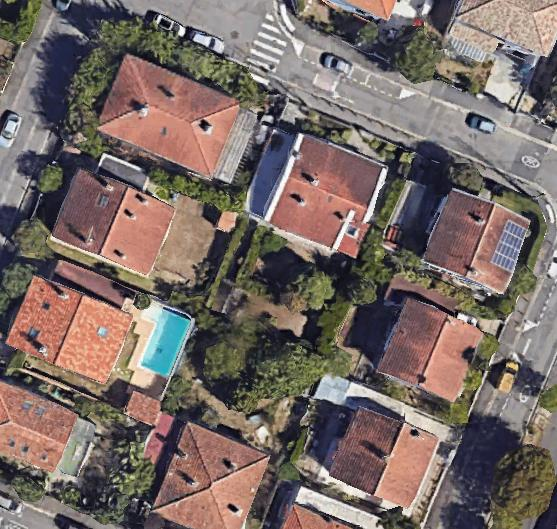maison: (247, 125, 388, 257), (95, 54, 243, 178), (49, 166, 178, 277), (5, 275, 132, 385), (149, 420, 269, 529), (418, 186, 531, 298), (326, 403, 440, 509), (375, 295, 484, 403), (0, 381, 78, 473), (449, 0, 556, 56), (281, 488, 380, 528), (321, 0, 397, 20)
